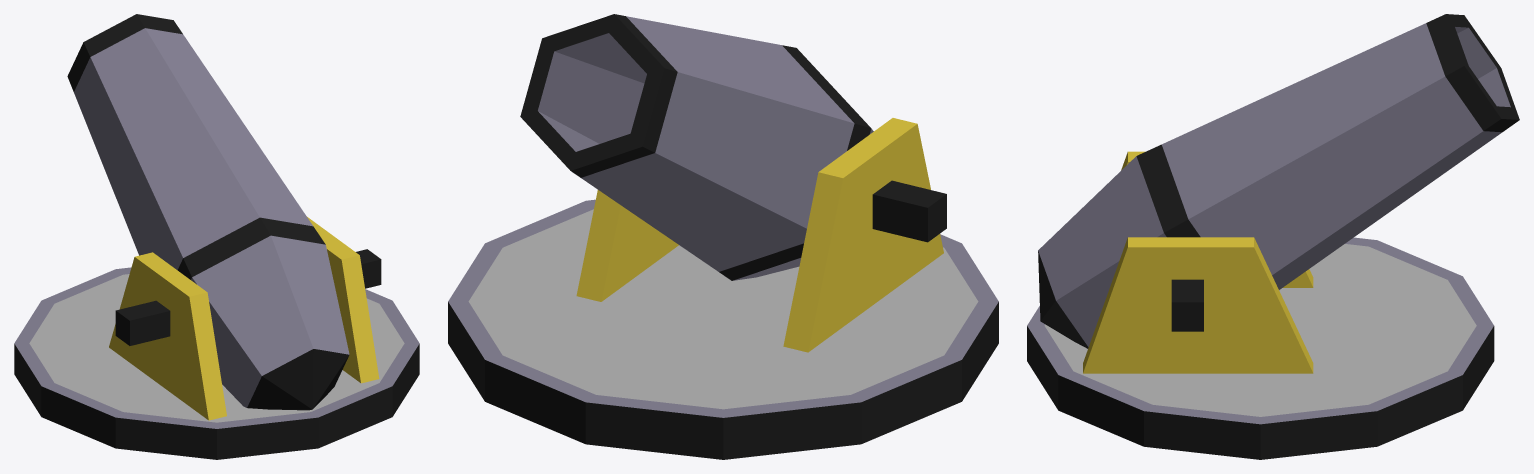
The model's file is Cannon.fbx.
The picture shows the model from 3 angles, left to right: view 1: azimuth 30°, elevation 25°; view 2: azimuth 150°, elevation 25°; view 3: azimuth 270°, elevation 25°; orthographic projection. The views are drawn at different scales.
Parts seen in each view (by area): view 1: Cannon; view 2: Cannon; view 3: Cannon.
Boxes of the visible parts, box(x1,y1,x2,y2) form: Cannon: box(14, 14, 419, 459); Cannon: box(448, 14, 998, 459); Cannon: box(1027, 14, 1519, 459).
Bounding box in the file's own units: 1.23 × 1.01 × 1.3.
